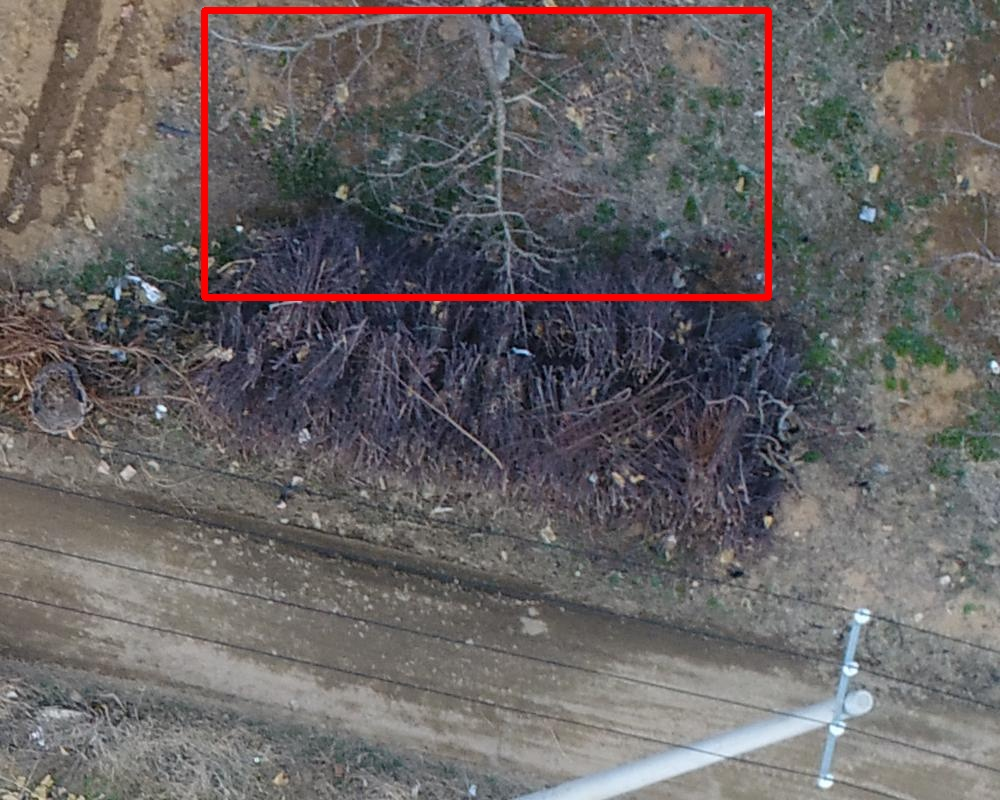apple: (204, 10, 768, 297)
